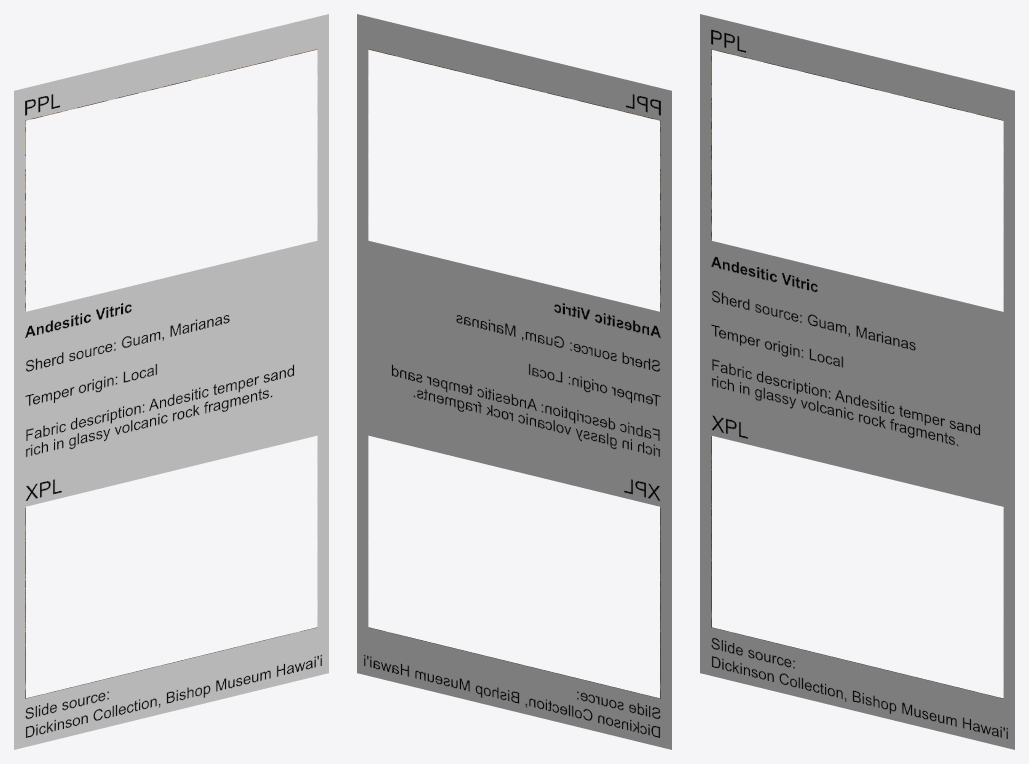
Rendered from wd_7_24_frame.glb.
3 views of the same model, side by side, from view 1: azimuth 30°, elevation 25°; view 2: azimuth 150°, elevation 25°; view 3: azimuth 330°, elevation 25° (orthographic).
Visible parts, largest first — view 1: WD_7_24; view 2: WD_7_24; view 3: WD_7_24.
Part boxes in pixels (box(x1,y1,x2,y2)): WD_7_24: box(14, 14, 328, 749); WD_7_24: box(357, 14, 671, 749); WD_7_24: box(700, 14, 1014, 749).
Size of the model in its own units: 0.5 by 1 by 4.37e-08.
Materials: 1 (1 with a texture image).
